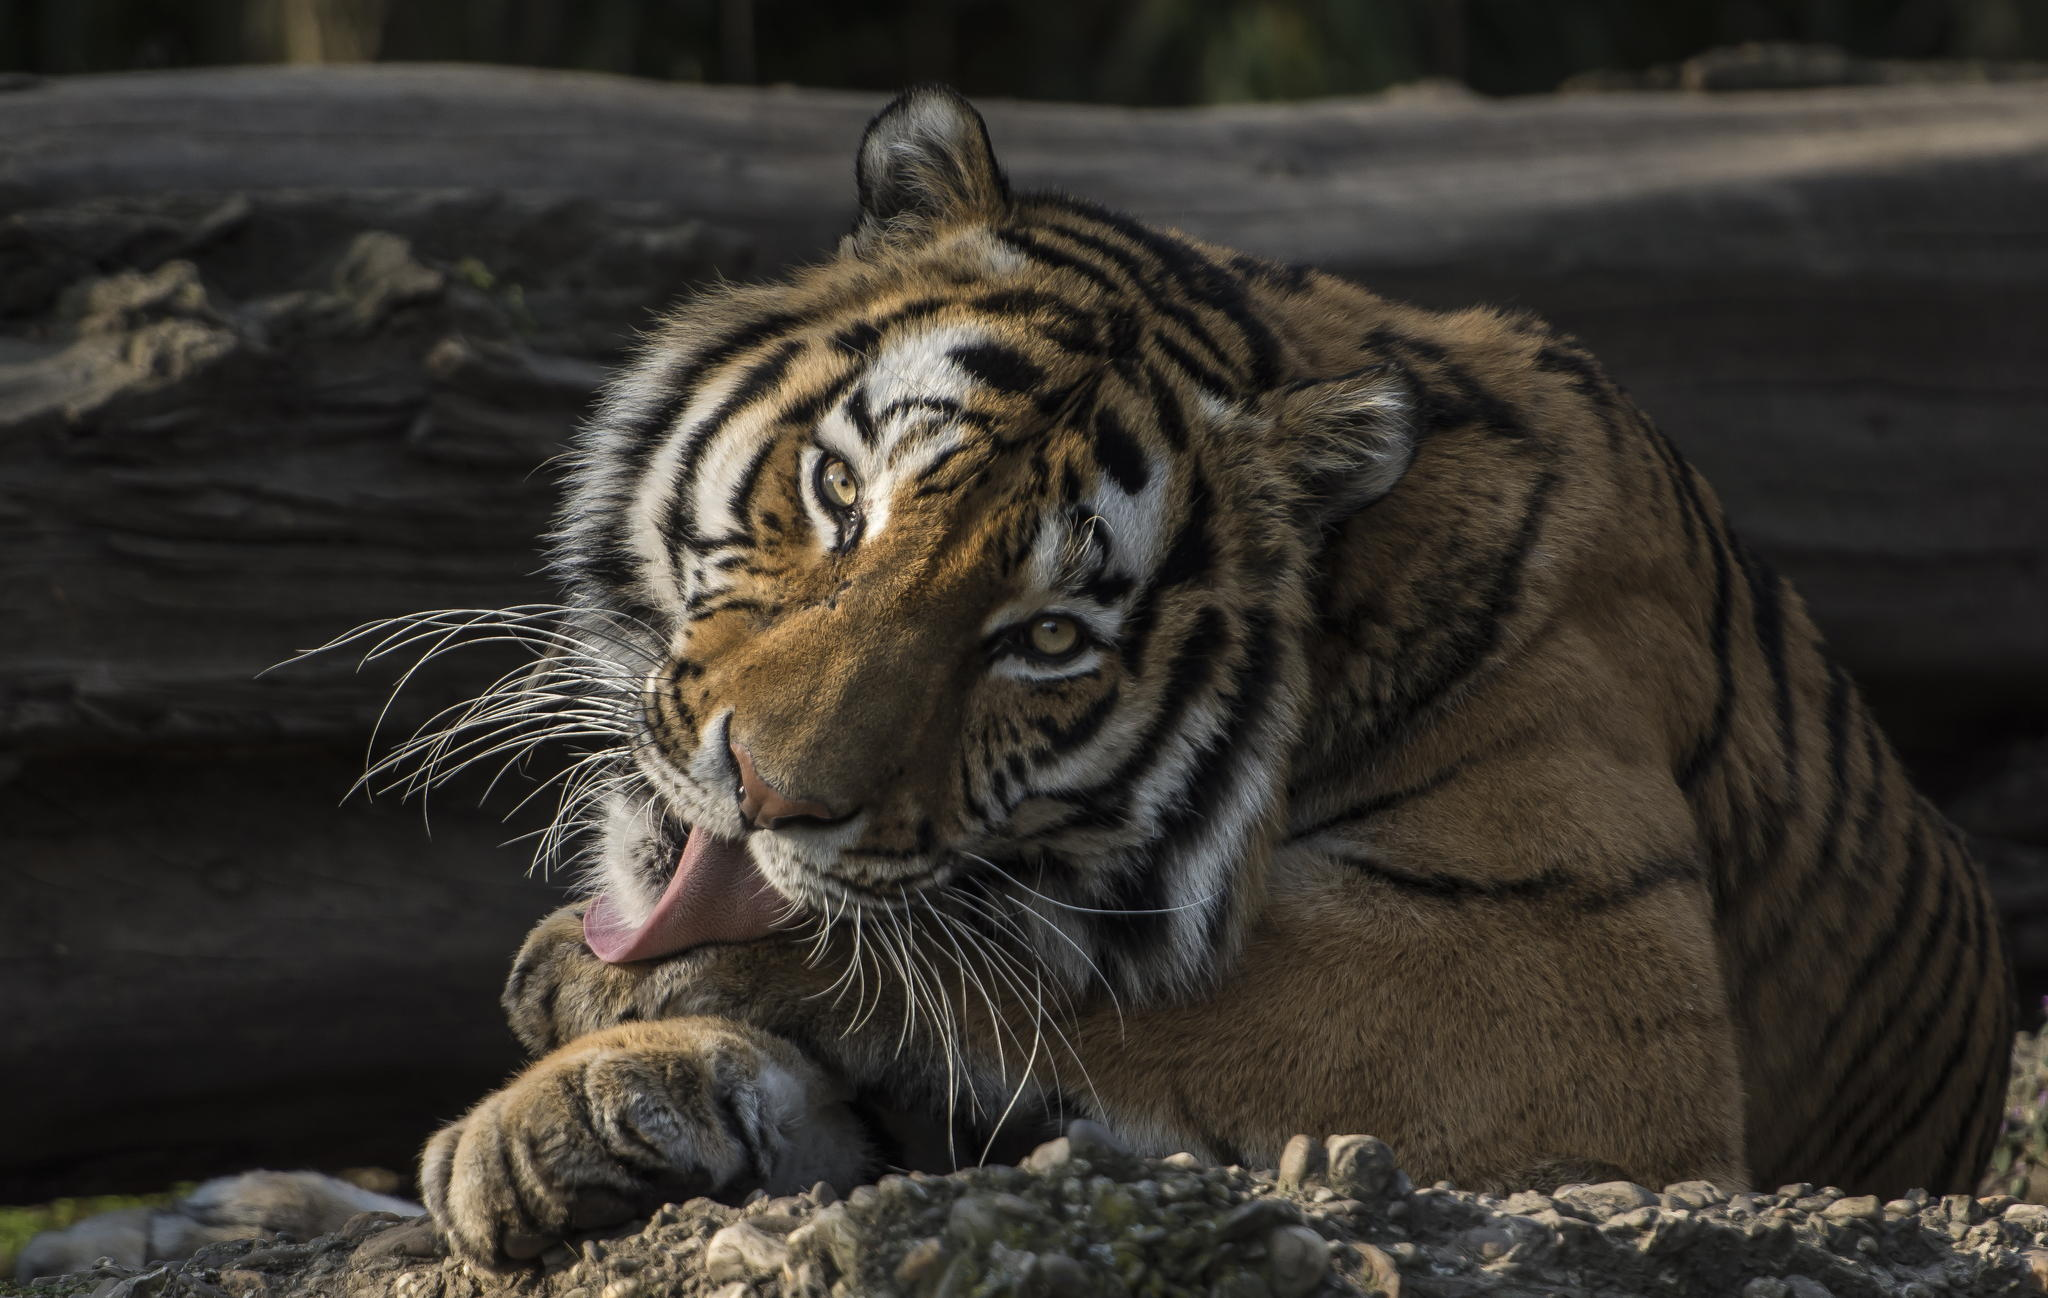tiger: (488, 139, 2017, 1261)
